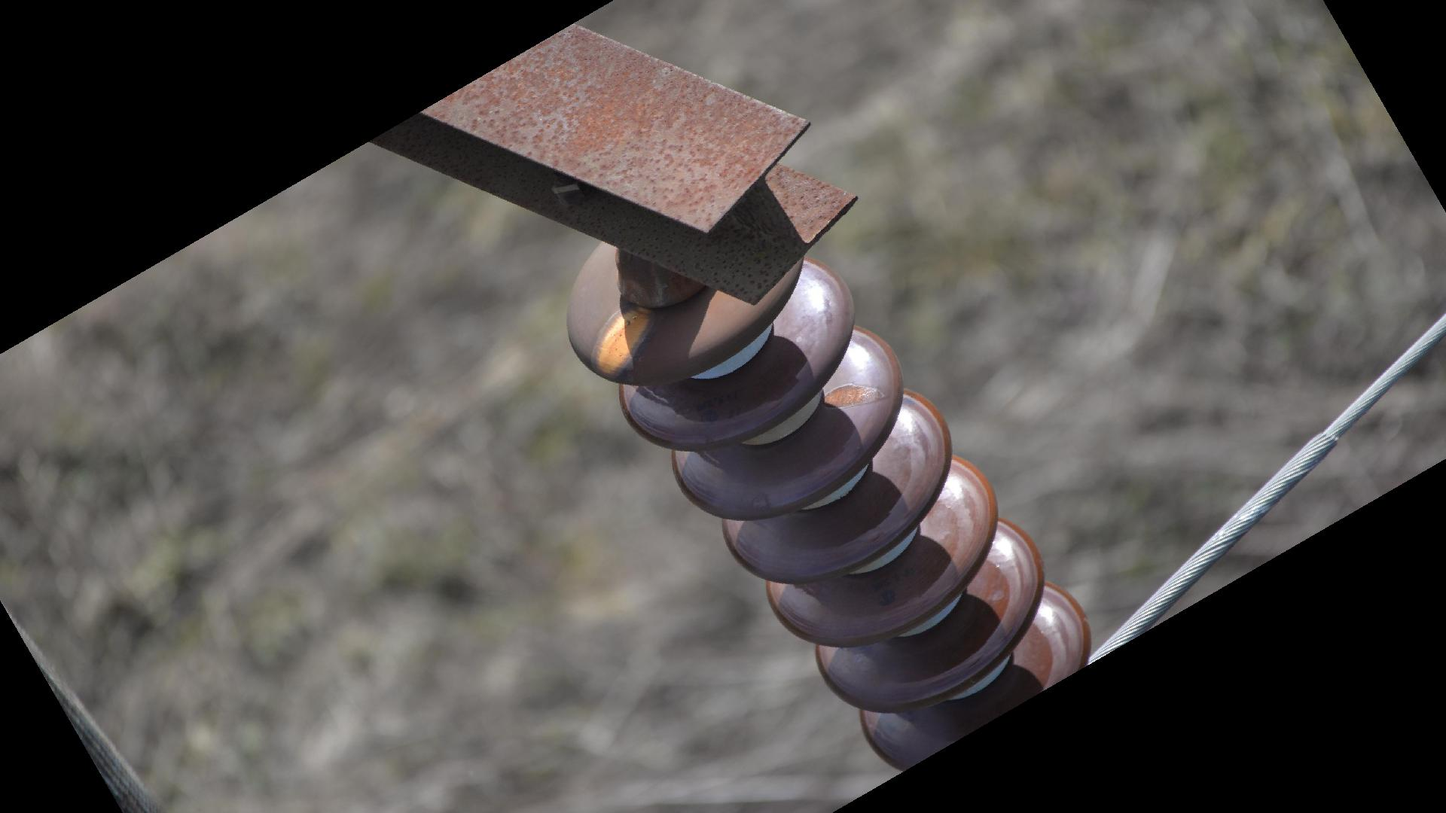insulator: (557, 236, 1100, 776)
insulator_flashover: (587, 303, 660, 377), (819, 379, 887, 411)
